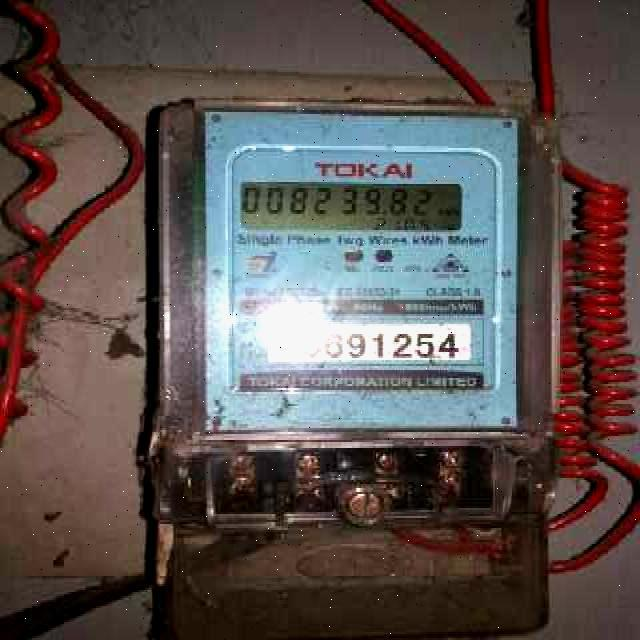LCD: (235, 171, 478, 241)
